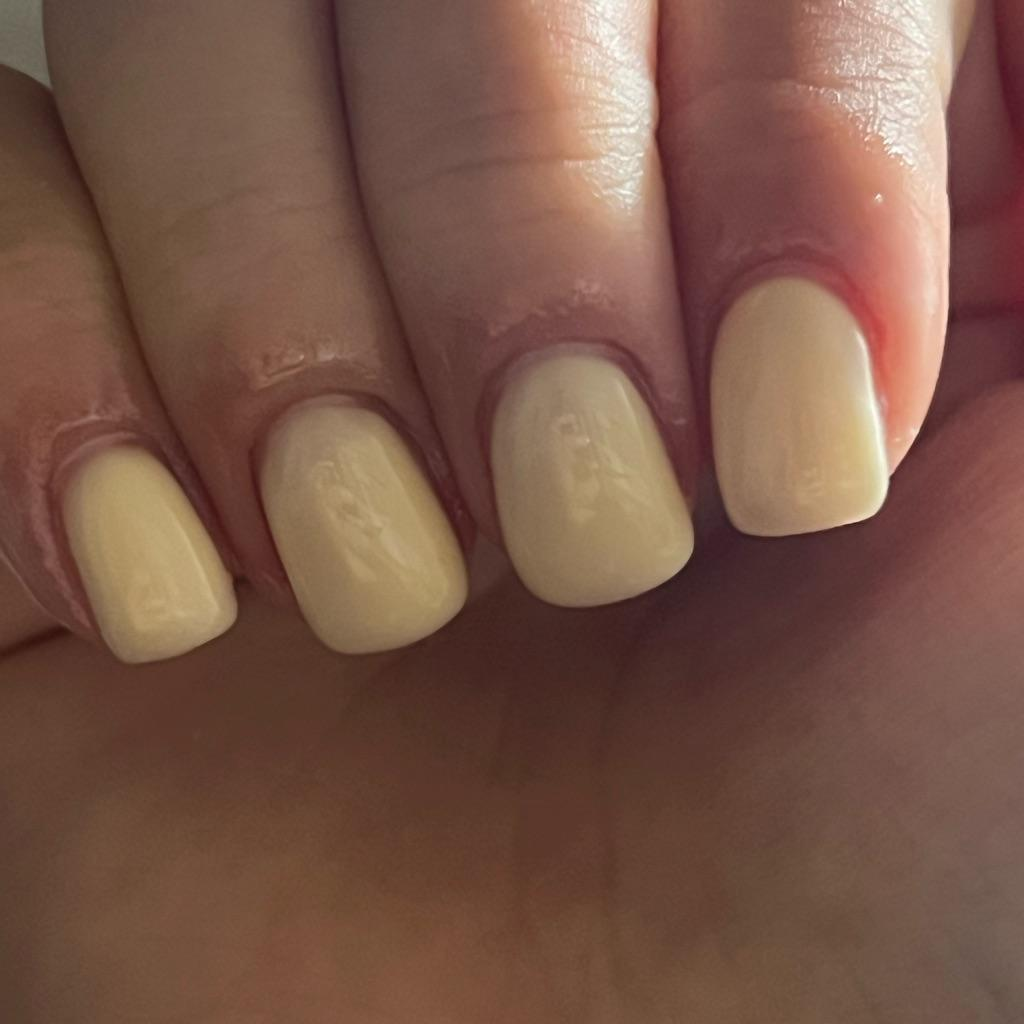nail: (41, 0, 474, 656), (332, 0, 700, 609), (656, 0, 974, 538), (0, 61, 239, 665)
